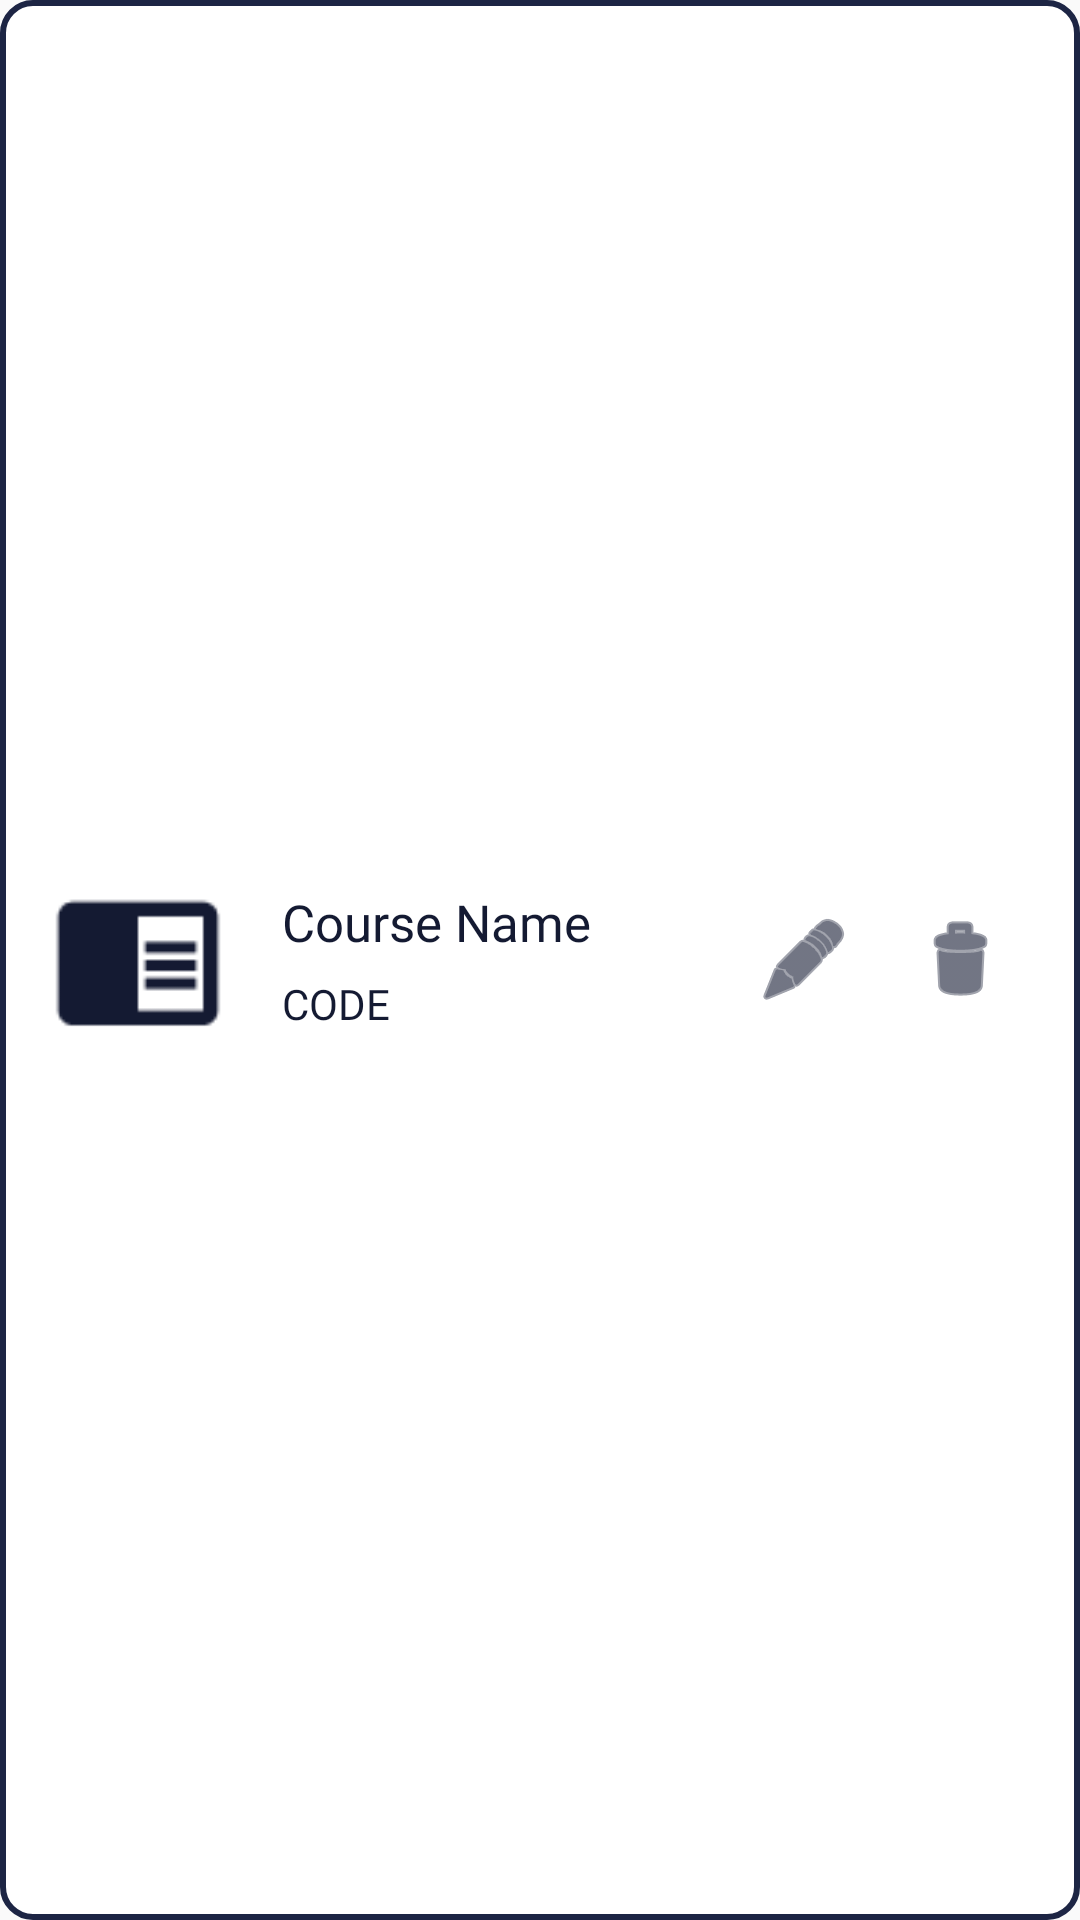

Icon bounding boxes for this 1080×1920 phone screenshot, format (x1, y1, x2, y2):
delete: (933, 921, 988, 996)
edit: (763, 919, 844, 1000)
